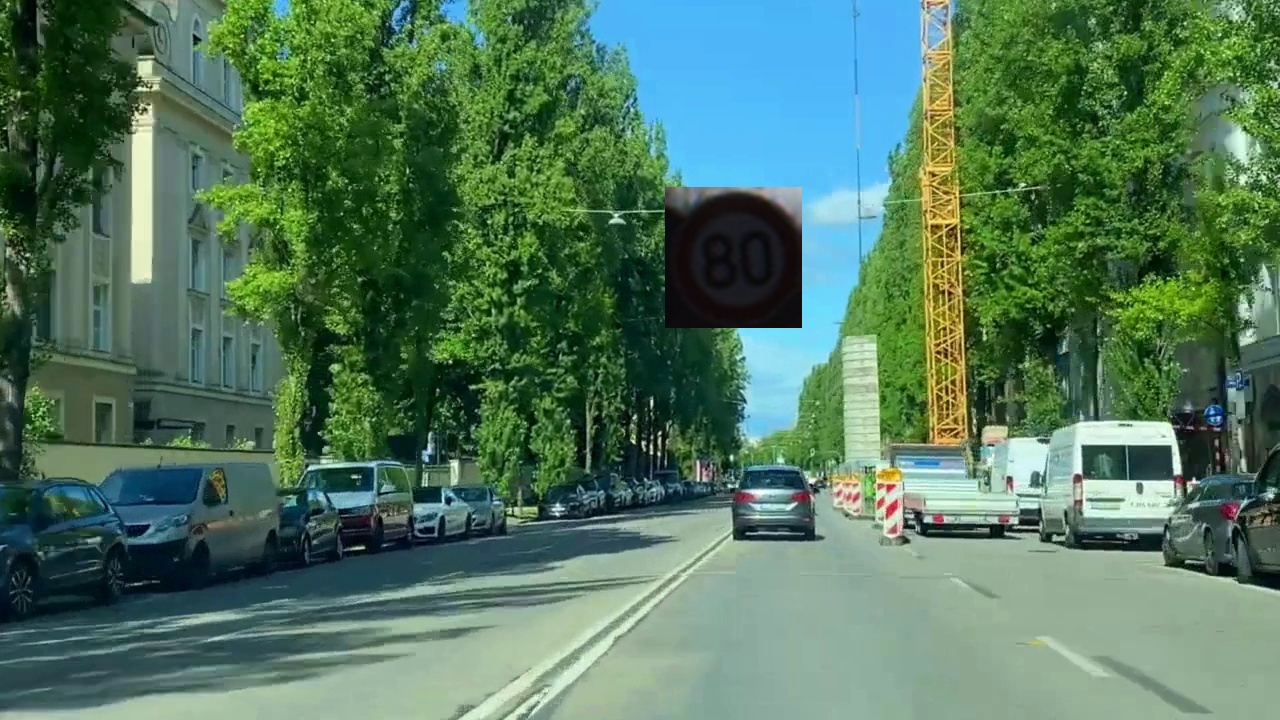Speed 80: (665, 187, 802, 328)
